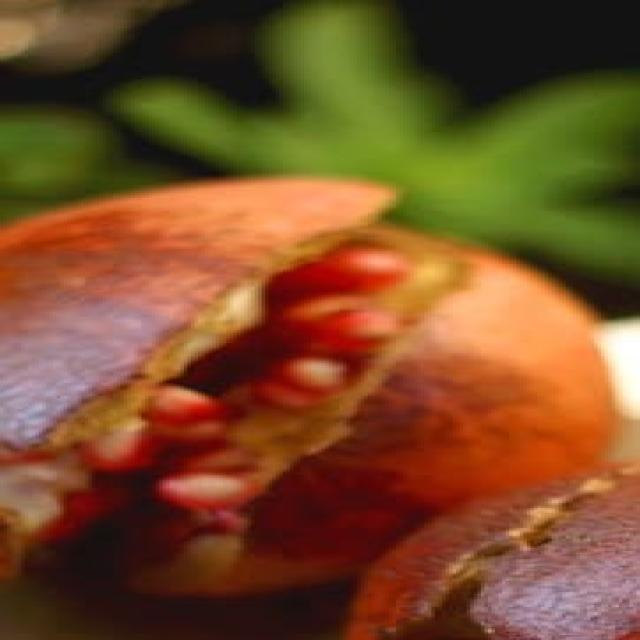overripe: (8, 159, 632, 616)
